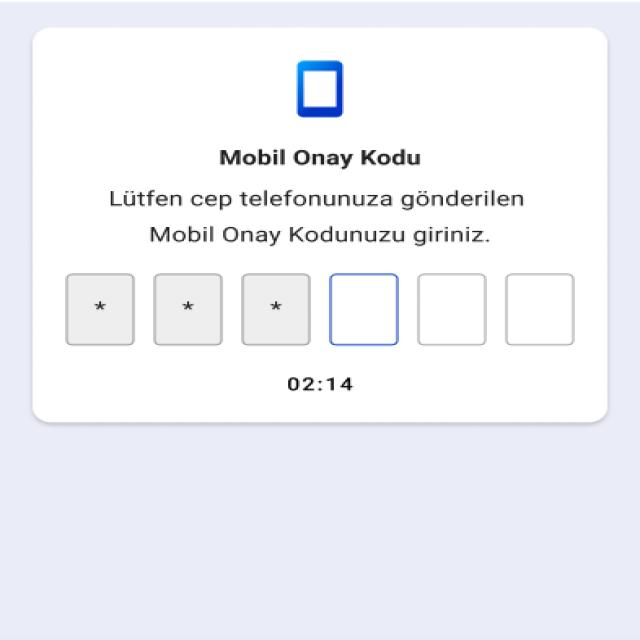VCard: (32, 27, 608, 423)
